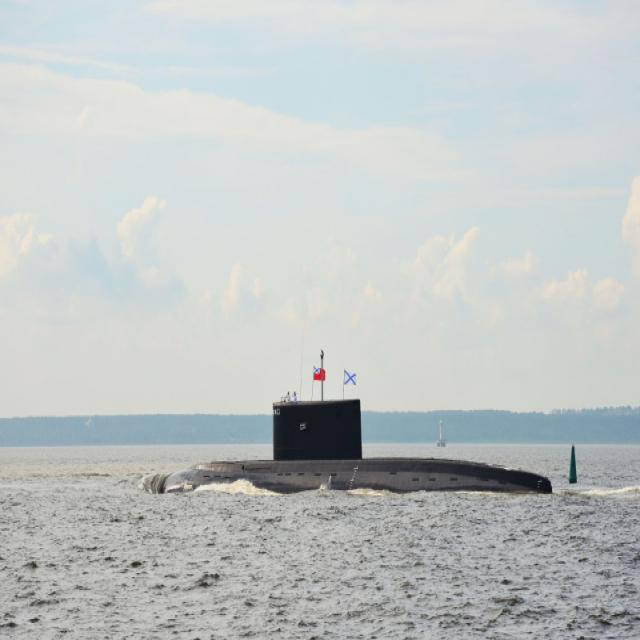submarine: (143, 349, 572, 495)
